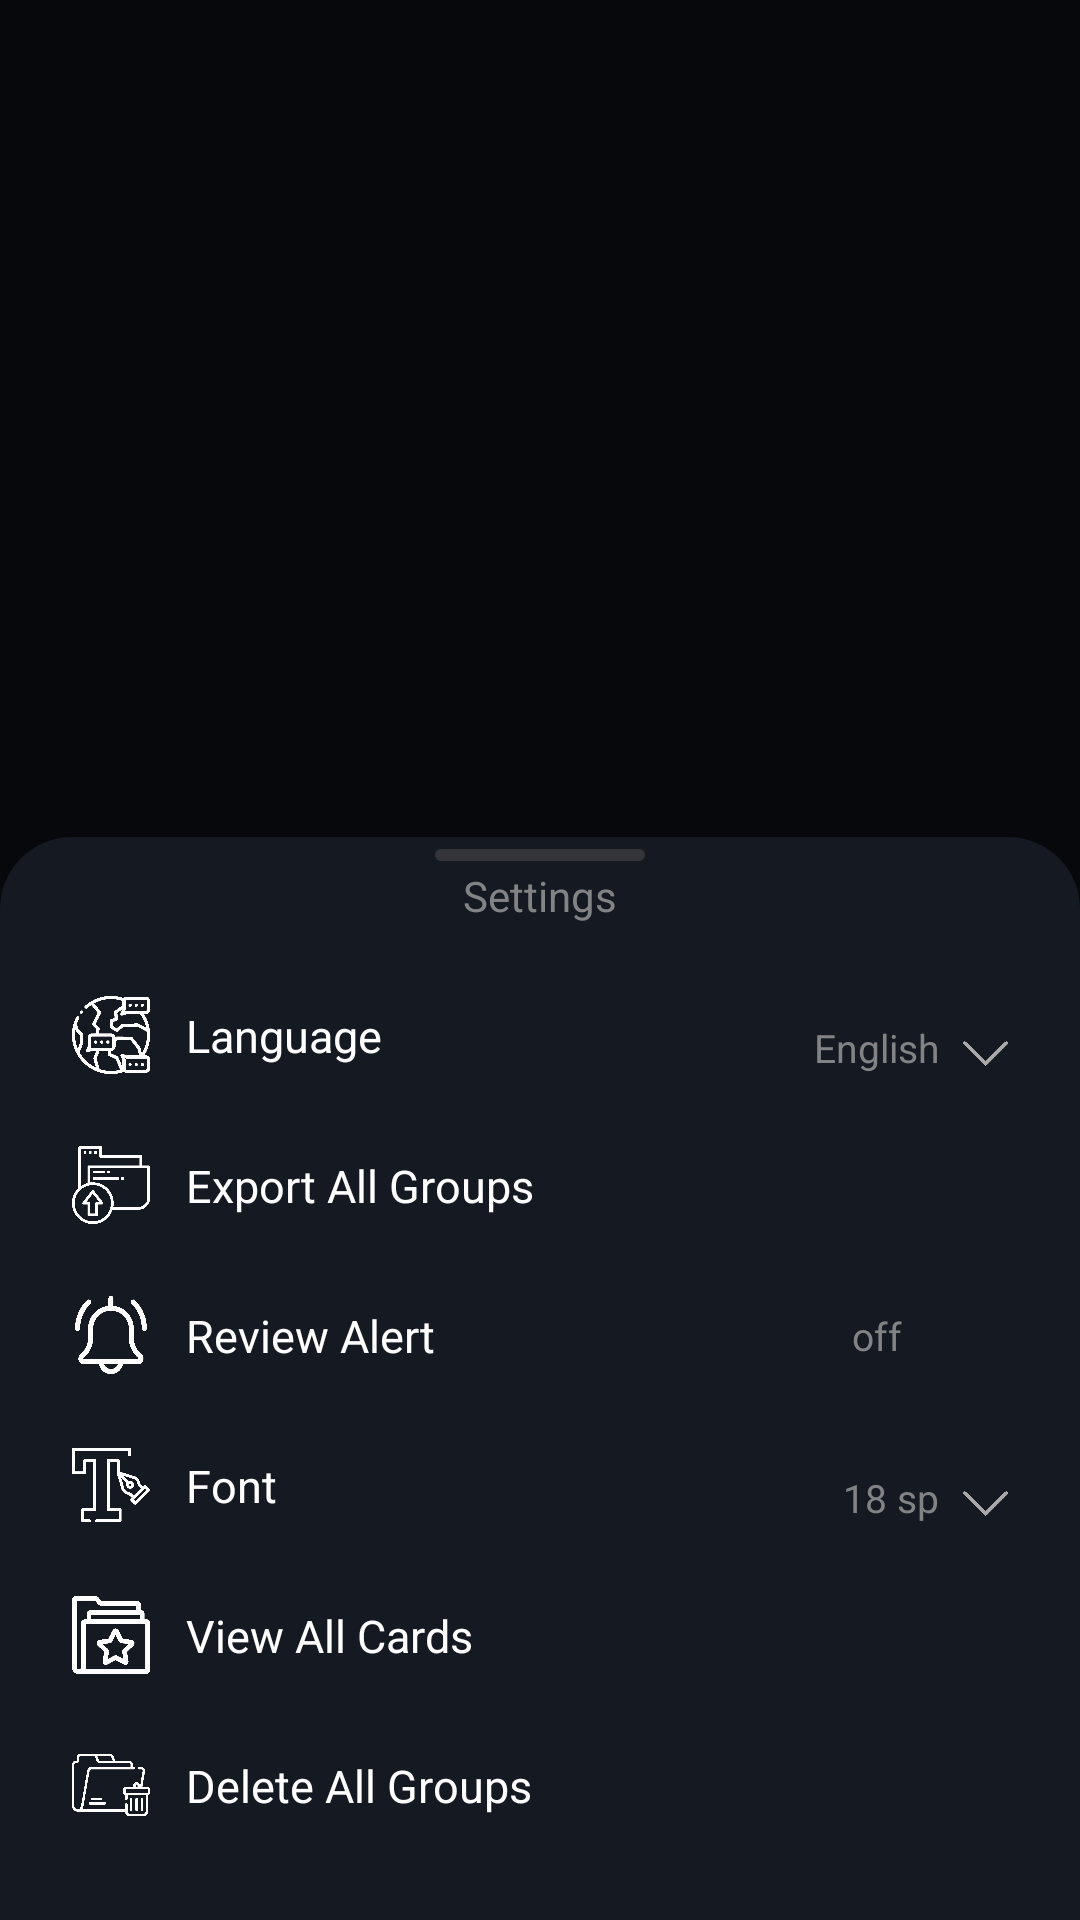

Icons on this 1080px x 1920px Android screen, each with its box as rect(x1, y1, x2, y2):
bell: rect(75, 1296, 147, 1374)
delete folder: rect(72, 1754, 150, 1816)
favorite: rect(72, 1596, 150, 1674)
